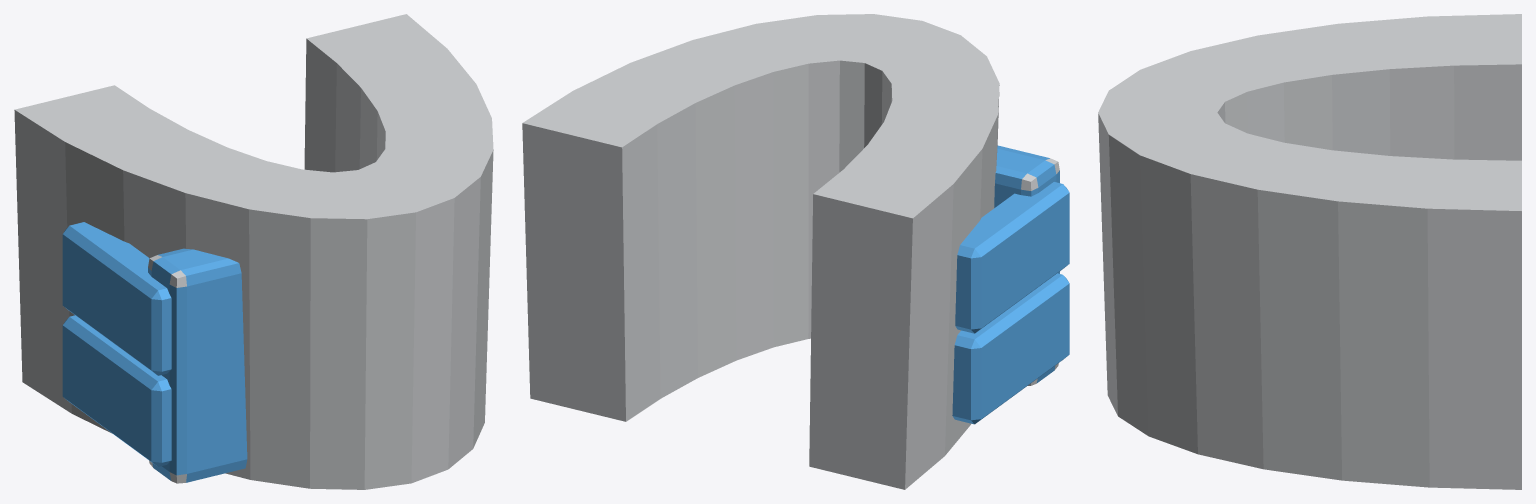
Rendered from right_shoulder__heavy_guard.glb.
3 renders of one model, left to right at view 1: azimuth 30°, elevation 25°; view 2: azimuth 150°, elevation 25°; view 3: azimuth 270°, elevation 25°, orthographic. The views are drawn at different scales.
Visible parts, largest first — view 1: armor_right_shoulder__heavy_guard_v001; view 2: armor_right_shoulder__heavy_guard_v001; view 3: armor_right_shoulder__heavy_guard_v001.
Part boxes in pixels (bbox=[...]): armor_right_shoulder__heavy_guard_v001: bbox=[14, 14, 493, 489]; armor_right_shoulder__heavy_guard_v001: bbox=[522, 14, 1069, 489]; armor_right_shoulder__heavy_guard_v001: bbox=[1098, 14, 1521, 489].
Size of the model in its own units: 0.181 by 0.118 by 0.1602.
